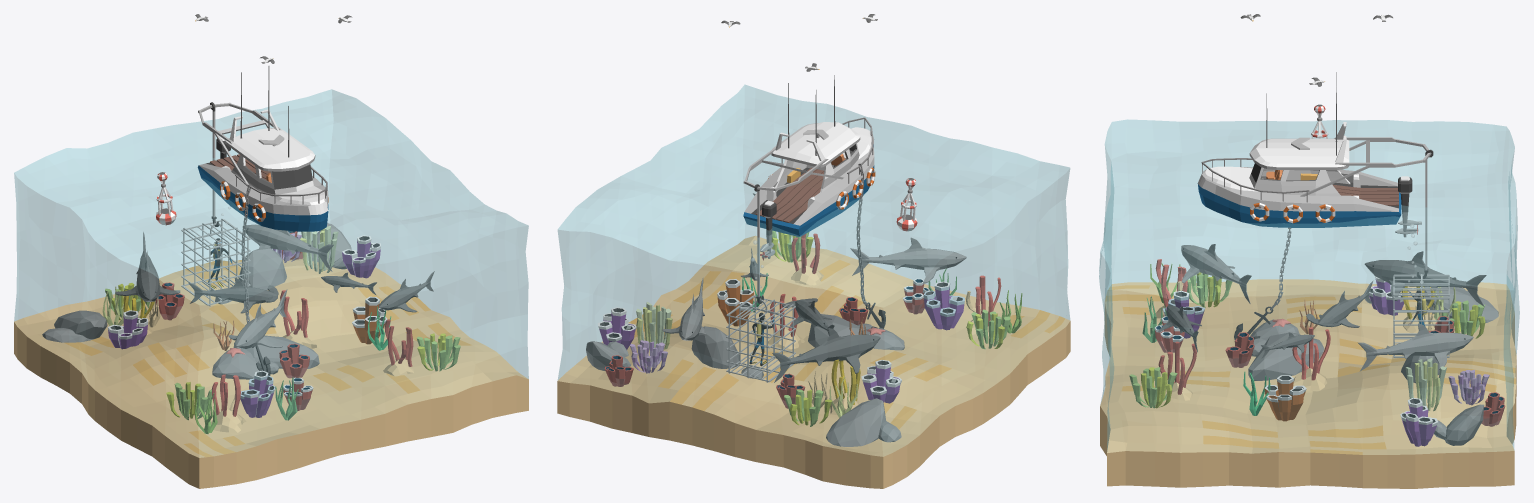
The model's file is l-p_shark_cage_diving_scene.glb.
3 renders of one model, left to right at view 1: azimuth 30°, elevation 25°; view 2: azimuth 150°, elevation 25°; view 3: azimuth 270°, elevation 25°, orthographic. The views are drawn at different scales.
Visible parts, largest first — view 1: Object_4, Object_9, Object_8, Object_6, Object_5, Object_10; view 2: Object_4, Object_9, Object_8, Object_6, Object_5, Object_10; view 3: Object_4, Object_9, Object_8, Object_6, Object_5.
Boxes of the visible parts, bbox=[...] form: Object_4: bbox=[14, 89, 528, 457]; Object_9: bbox=[14, 223, 528, 488]; Object_8: bbox=[181, 66, 328, 306]; Object_6: bbox=[115, 232, 434, 348]; Object_5: bbox=[195, 14, 352, 375]; Object_10: bbox=[156, 172, 176, 225]; Object_4: bbox=[558, 85, 1069, 456]; Object_9: bbox=[557, 230, 1070, 488]; Object_8: bbox=[726, 75, 875, 382]; Object_6: bbox=[741, 193, 966, 382]; Object_5: bbox=[662, 14, 885, 340]; Object_10: bbox=[896, 178, 917, 231]; Object_4: bbox=[1099, 119, 1519, 454]; Object_9: bbox=[1100, 259, 1516, 488]; Object_8: bbox=[1197, 72, 1449, 357]; Object_6: bbox=[1158, 244, 1486, 358]; Object_5: bbox=[1234, 14, 1473, 371].
Bounding box in the file's own units: 40.87 × 40.1 × 40.37.
3 materials, 1 textured.
